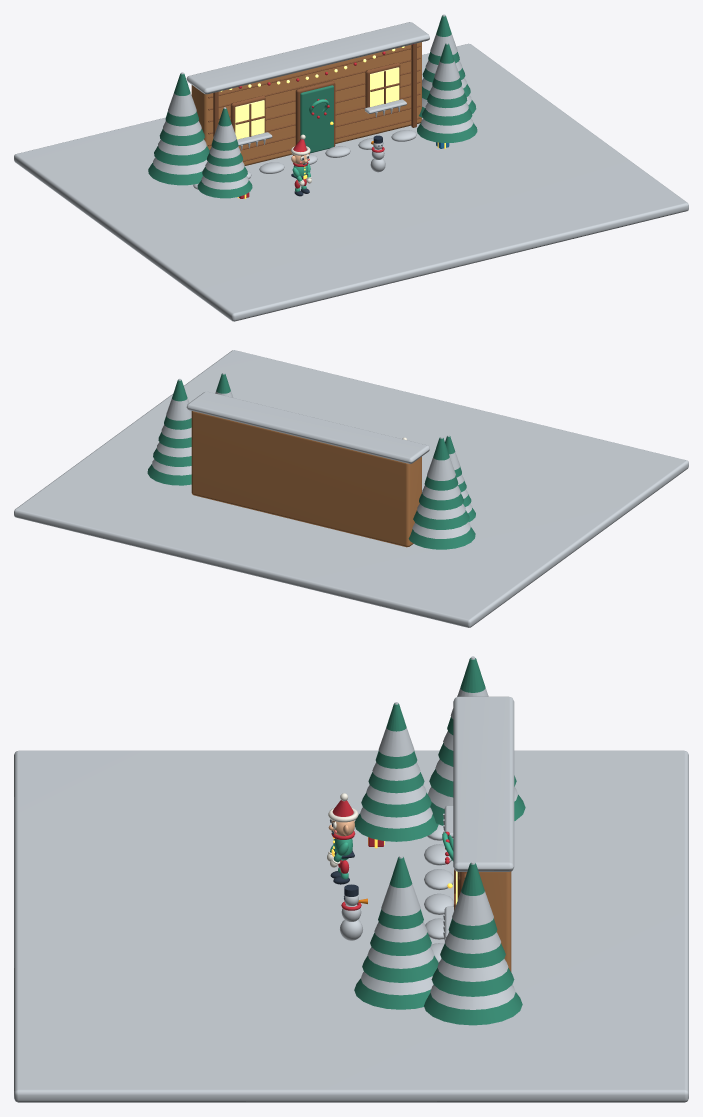
Rendered from chapter-02.glb.
The picture shows the model from 3 angles, top to bottom: view 1: azimuth 30°, elevation 25°; view 2: azimuth 150°, elevation 25°; view 3: azimuth 270°, elevation 25°; orthographic projection. The views are drawn at different scales.
Visible parts, largest first — view 1: Schneeboden, Werkstatt, Schneegesims, Wichteltür, Warmes Fenster, Warmes Fenster.001, Tannenzweig.004, Tannenzweig.008, Tannenzweig.009, Türrahmen, Tannenzweig.011, Schnee.011 (+7 smaller); view 2: Schneeboden, Werkstatt, Schneegesims, Tannenzweig.008, Tannenzweig.009, Tannenzweig.011, Schnee.008, Schnee.011, Tannenzweig.015, Tannenzweig.012, Tannenzweig.010, Schnee.009 (+1 smaller); view 3: Schneeboden, Schneegesims, Werkstatt, Tannenzweig.012, Tannenzweig.013, Tannenzweig.015, Tannenzweig, Schnee.012, Tannenzweig.005, Tannenzweig.004, Schnee.015, Tannenzweig.007 (+15 smaller).
Part boxes in pixels (x1,y1,x2,y2): Schneeboden: (14, 43, 688, 321); Werkstatt: (191, 42, 421, 165); Schneegesims: (186, 22, 429, 94); Wichteltür: (300, 85, 333, 153); Warmes Fenster: (235, 100, 264, 139); Warmes Fenster.001: (370, 67, 399, 106); Tannenzweig.004: (417, 122, 477, 142); Tannenzweig.008: (148, 163, 202, 185); Tannenzweig.009: (154, 146, 209, 165); Türrahmen: (295, 81, 335, 146); Tannenzweig.011: (165, 73, 198, 126); Schnee.011: (168, 72, 196, 116); Schneeboden: (14, 350, 688, 627); Werkstatt: (191, 411, 421, 547); Schneegesims: (186, 391, 429, 463); Tannenzweig.008: (408, 527, 475, 549); Tannenzweig.009: (413, 510, 469, 529); Tannenzweig.011: (424, 437, 458, 490); Schnee.008: (412, 522, 470, 538); Schnee.011: (427, 436, 455, 480); Tannenzweig.015: (164, 380, 191, 429); Tannenzweig.012: (147, 464, 191, 485); Tannenzweig.010: (419, 493, 463, 510); Schnee.009: (417, 504, 465, 519); Schneeboden: (14, 750, 688, 1102); Schneegesims: (453, 696, 514, 871); Werkstatt: (466, 871, 511, 971); Tannenzweig.012: (424, 992, 522, 1025); Tannenzweig.013: (431, 968, 514, 996); Tannenzweig.015: (448, 863, 497, 939); Tannenzweig: (354, 813, 438, 841); Schnee.012: (430, 985, 515, 1009); Tannenzweig.005: (362, 955, 438, 982); Tannenzweig.004: (354, 978, 430, 1009); Schnee.015: (452, 861, 493, 925); Tannenzweig.007: (378, 857, 423, 929).
Size of the model in its own units: 18 by 4.39 by 15.
